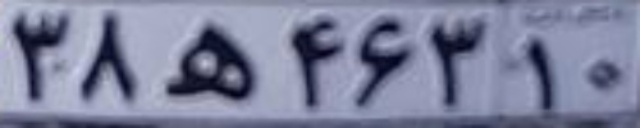0: (579, 58, 629, 90)
1: (524, 38, 554, 110)
3: (10, 7, 68, 102), (428, 21, 485, 105)
4: (288, 20, 337, 106)
6: (352, 22, 409, 106)
8: (75, 9, 136, 103)
he: (170, 28, 255, 99)
